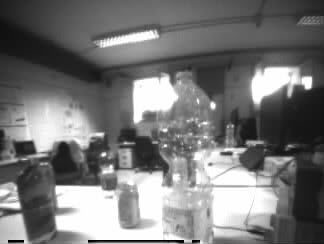Bottle: (157, 73, 212, 244), (18, 157, 57, 244), (97, 145, 118, 197), (224, 122, 233, 152)
Tin can: (117, 182, 140, 228)
